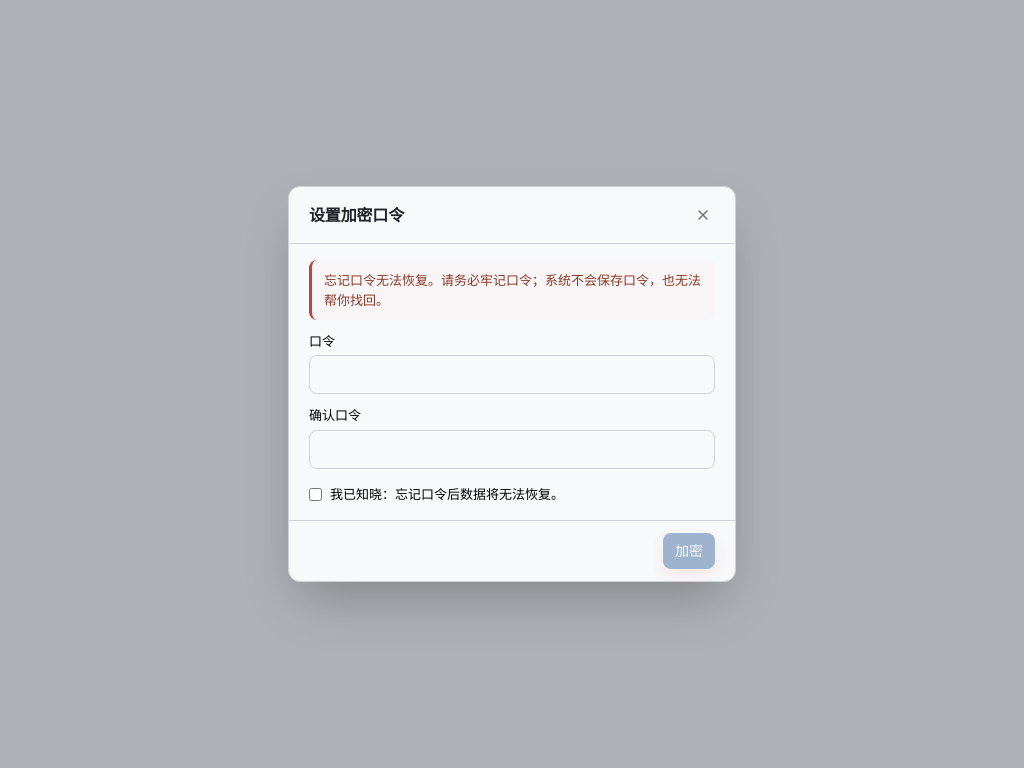
Test: PassphraseDialog › 口令不一致时显示错误且禁用提交
The width and height of the screenshot is (1024, 768).
Type "secret1" into the password field with test id "pe-passphrase" at (512, 375), box [309, 355, 715, 394]
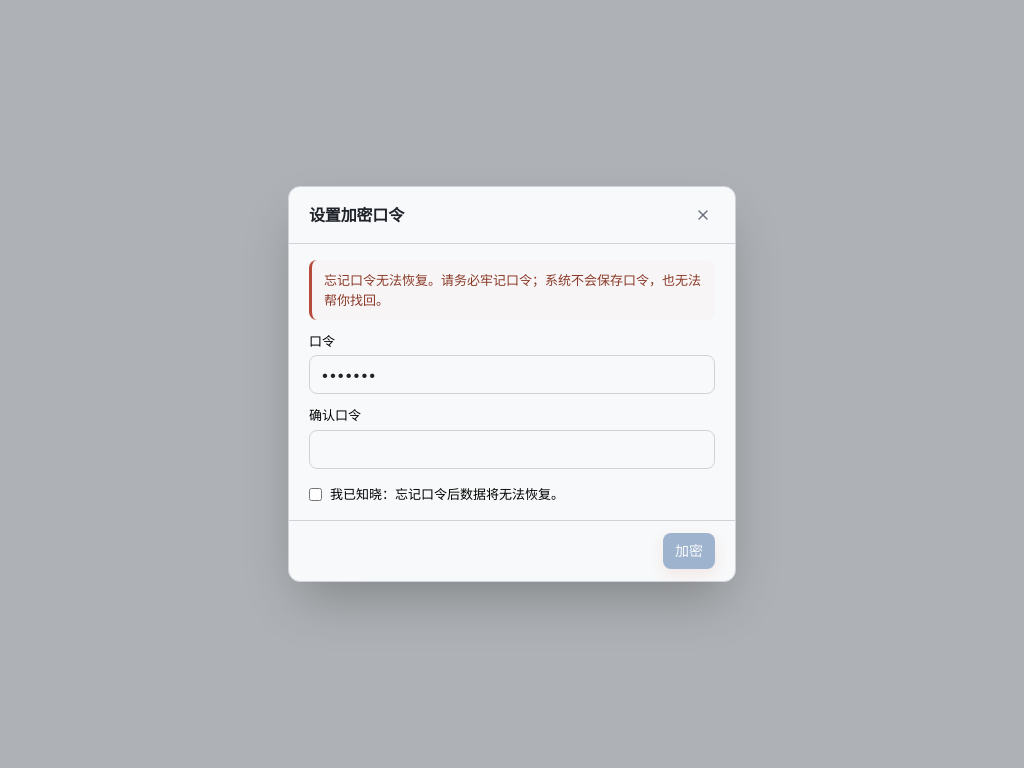
Type "secret2" into the password field with test id "pe-confirm" at (512, 449), box [309, 430, 715, 469]
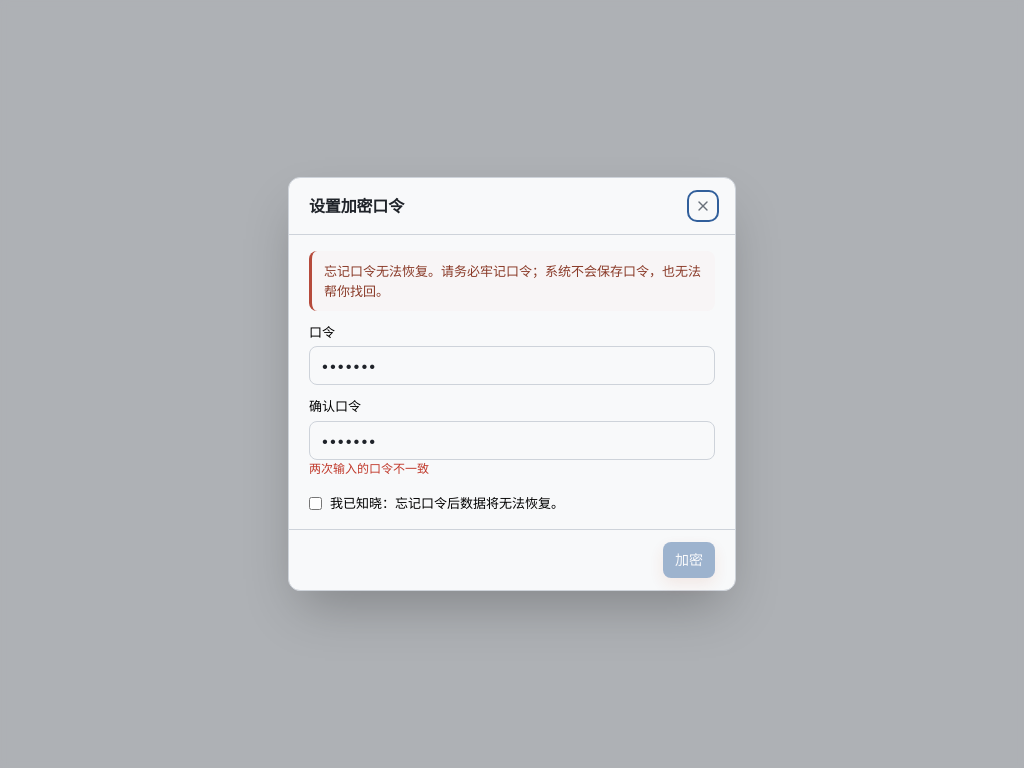
expect the button with test id "pe-submit" is disabled: met, box [663, 542, 715, 578]
expect the text "两次输入的口令不一致" is shown: met, box [309, 461, 429, 476]
